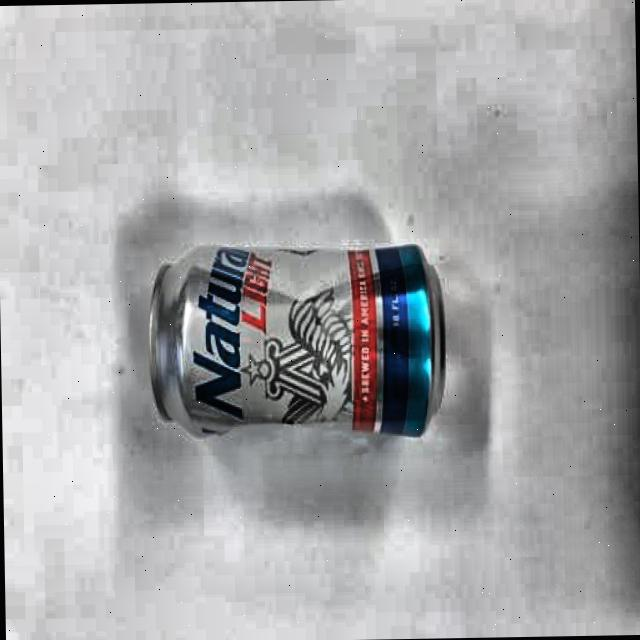metal: (150, 236, 448, 446)
